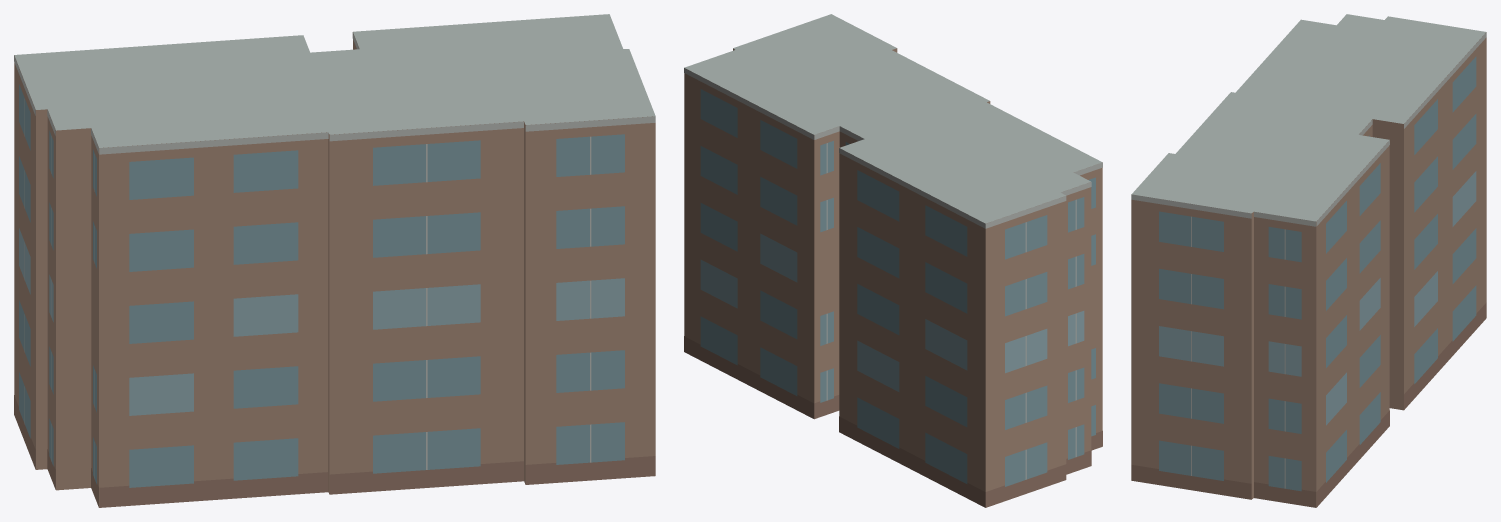
The model's file is survey-upis-32772265.glb.
3 renders of one model, left to right at view 1: azimuth 30°, elevation 25°; view 2: azimuth 150°, elevation 25°; view 3: azimuth 270°, elevation 25°, orthographic. The views are drawn at different scales.
Parts seen in each view (by area): view 1: survey-upis-32772265.tmp; view 2: survey-upis-32772265.tmp; view 3: survey-upis-32772265.tmp.
Part boxes in pixels (x1=…): survey-upis-32772265.tmp: x1=14, y1=14, x2=655, y2=507; survey-upis-32772265.tmp: x1=684, y1=14, x2=1102, y2=507; survey-upis-32772265.tmp: x1=1131, y1=14, x2=1486, y2=507.
Size of the model in its own units: 20.69 by 13.3 by 14.96.
